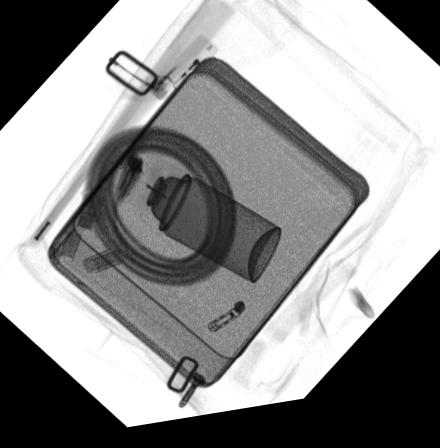Lighter: (144, 38, 219, 107)
Sprayer: (124, 161, 282, 292)
